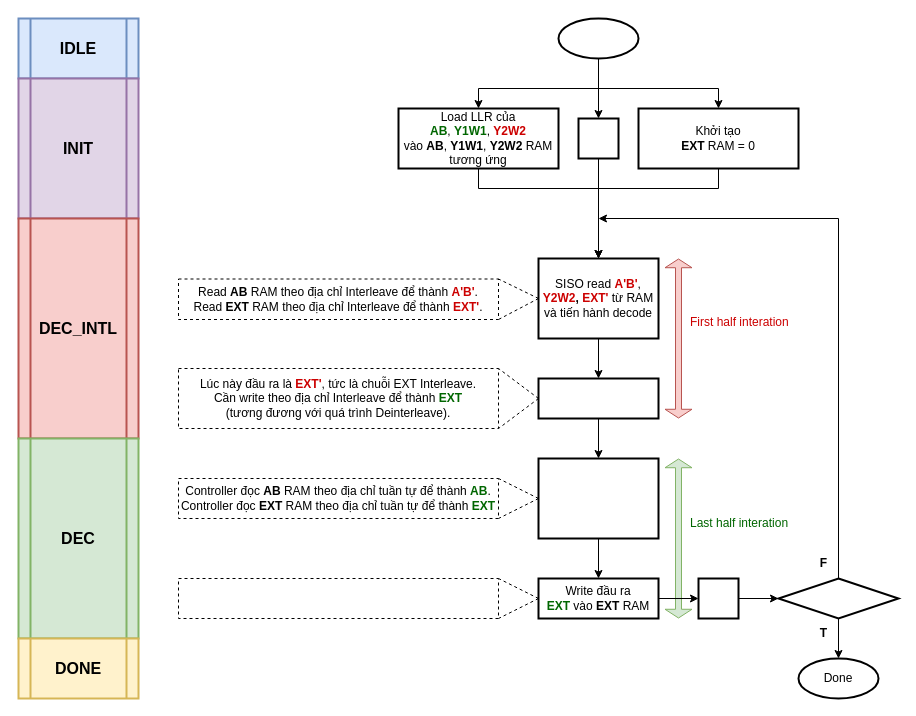
This 916x716 diagram has some shape labels left out. Here are the shapes that lost their labels. From the top down, the box of each, then its label:
(557, 17, 639, 59): Start
(577, 117, 619, 159): cnt = 0
(537, 377, 659, 419): Write đầu ra EXT' vào EXT RAM
(537, 457, 659, 539): SISO read AB , Y1W1 , EXT từ RAM và tiến hành decode
(178, 578, 498, 618): Write EXT theo địa chỉ tuần tự.
(697, 577, 739, 619): cnt++
(777, 577, 899, 619): cnt == Ninter ?
